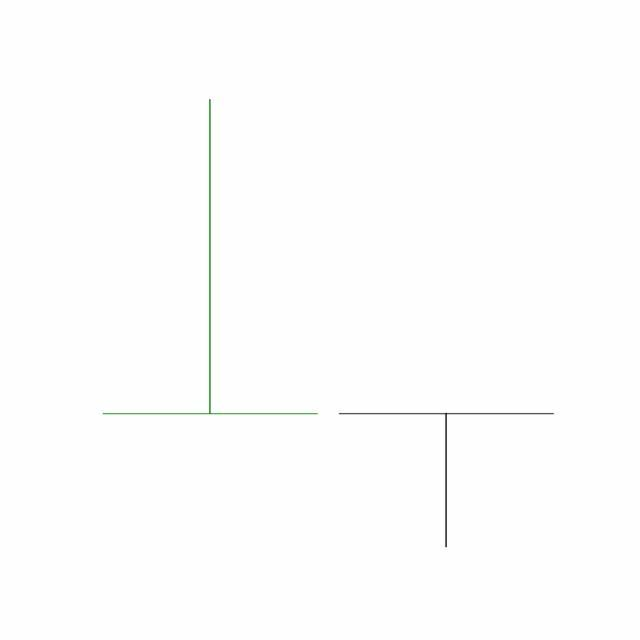Dragonfly Doji: (328, 412, 566, 550)
